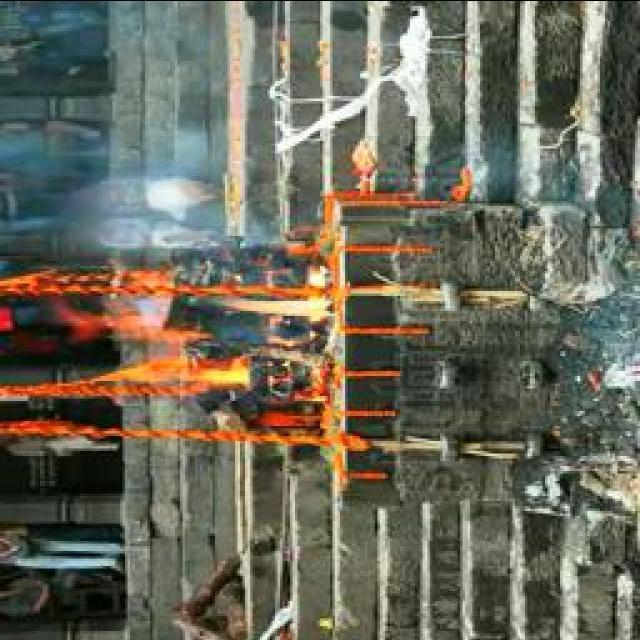Fire: (80, 279, 332, 386)
